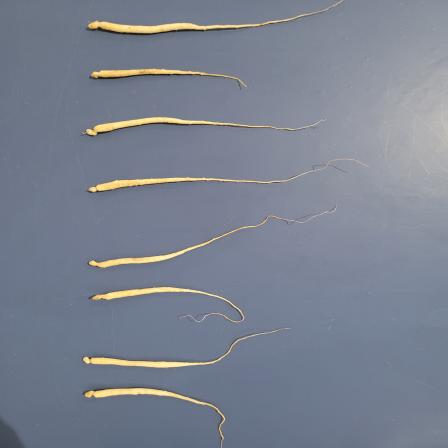Ginseng: (87, 206, 339, 270), (86, 158, 372, 193), (82, 327, 293, 371), (85, 0, 341, 36), (83, 386, 231, 446), (91, 285, 246, 323), (82, 116, 325, 137), (86, 68, 248, 89)
head: (88, 20, 106, 31), (85, 125, 101, 136), (84, 389, 100, 399), (91, 69, 103, 81), (91, 293, 109, 301), (82, 356, 95, 366), (88, 184, 101, 193), (88, 259, 101, 268)
